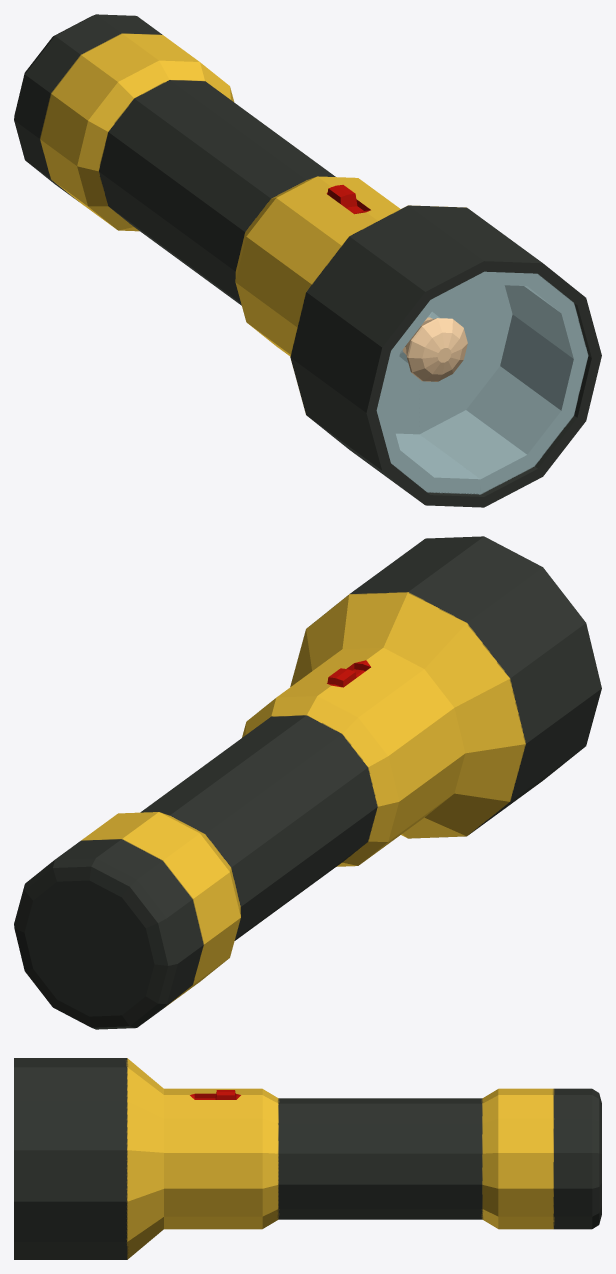
The model's file is FlashLight_low-Poly.fbx.
The picture shows the model from 3 angles, top to bottom: view 1: azimuth 30°, elevation 25°; view 2: azimuth 150°, elevation 25°; view 3: azimuth 270°, elevation 25°; orthographic projection. The views are drawn at different scales.
Visible parts, largest first — view 1: Cylinder; view 2: Cylinder; view 3: Cylinder.
Part boxes in pixels (bbox=[...]): Cylinder: bbox=[14, 14, 601, 507]; Cylinder: bbox=[14, 536, 601, 1029]; Cylinder: bbox=[14, 1058, 601, 1259].
Size of the model in its own units: 6.89 by 6.89 by 20.02.
